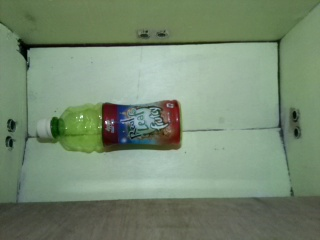bottle: (36, 99, 183, 156)
